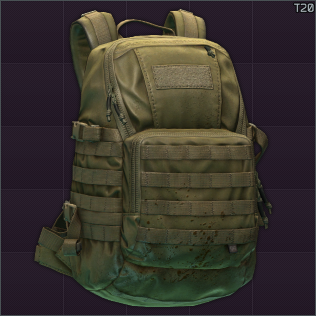Gruppa 99 T20 backpack Multicam: (0, 0, 316, 316)
